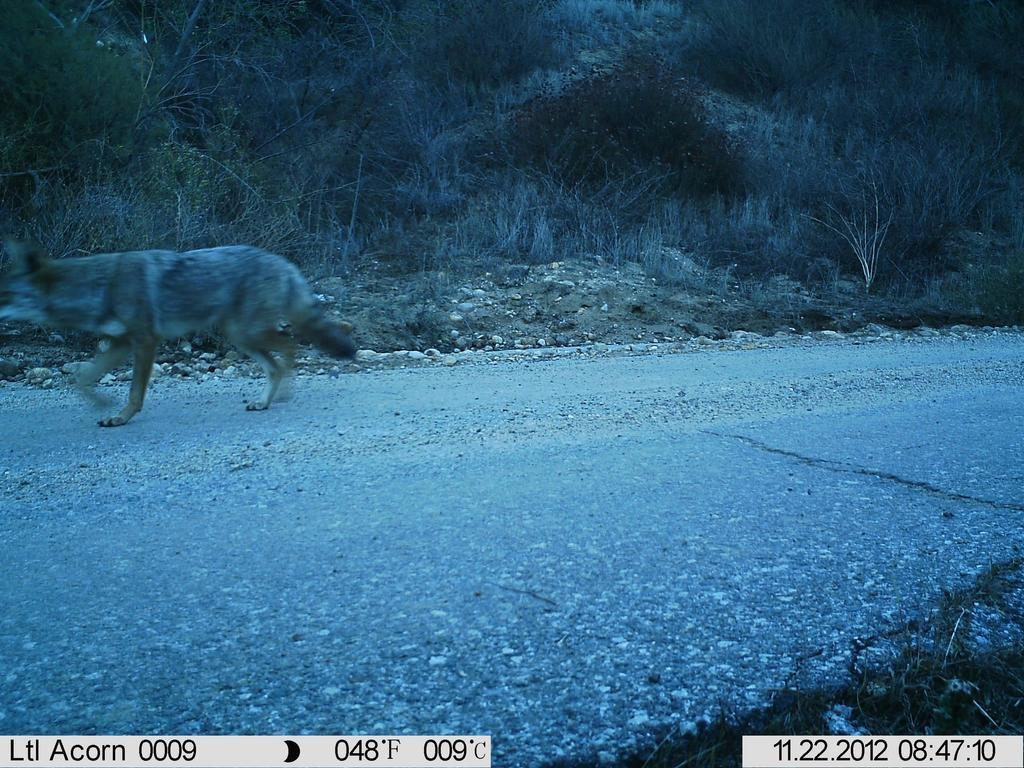coyote: (3, 229, 373, 424)
